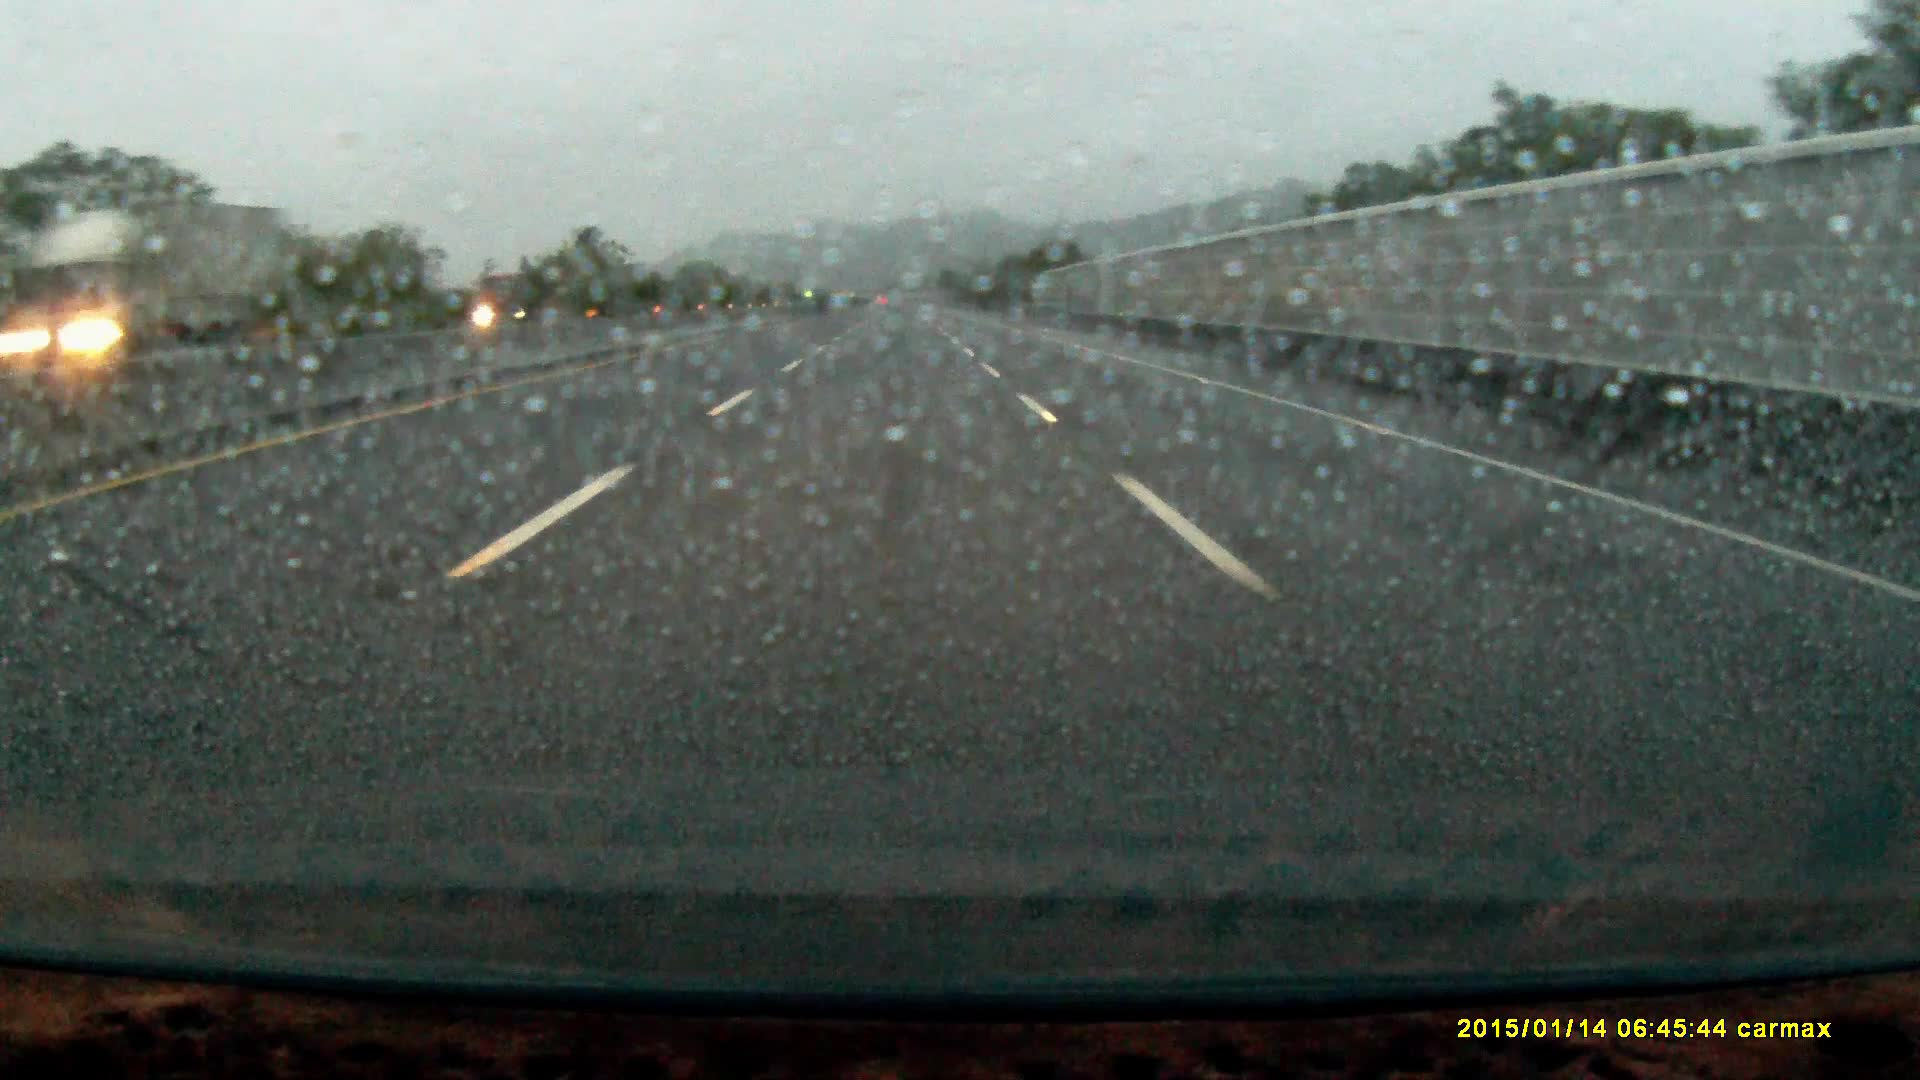vehicle: (13, 203, 273, 371), (477, 280, 572, 323)
